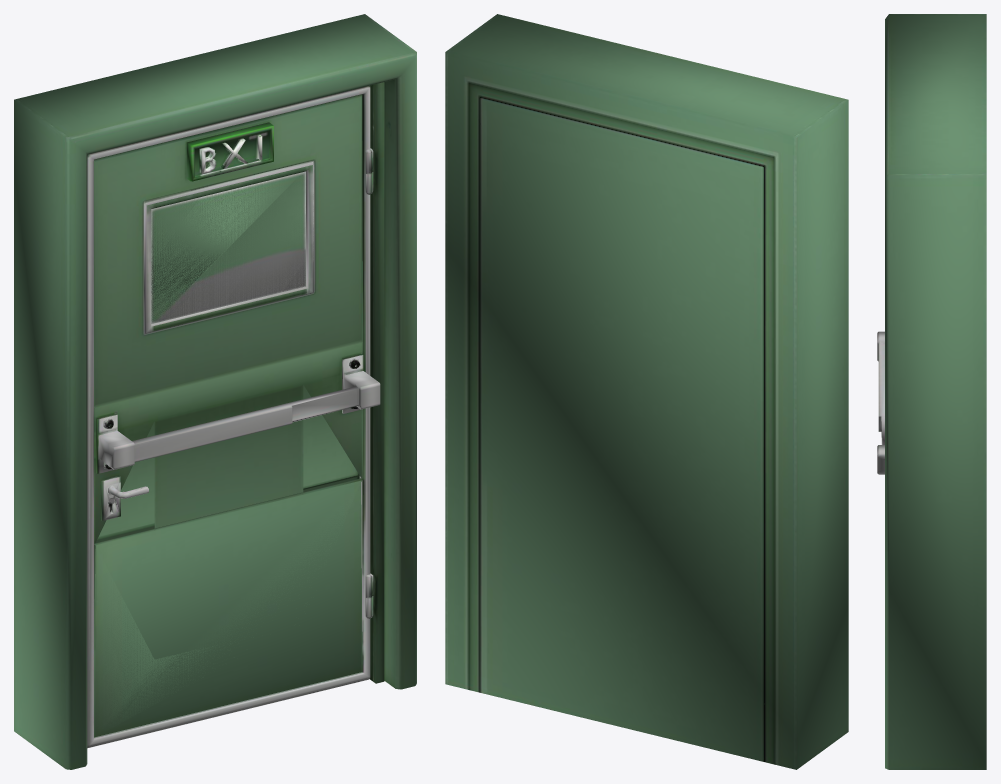
File: selected.glb
The picture shows the model from 3 angles, left to right: view 1: azimuth 30°, elevation 25°; view 2: azimuth 150°, elevation 25°; view 3: azimuth 270°, elevation 25°; orthographic projection. The views are drawn at different scales.
Parts seen in each view (by area): view 1: tripo_node_97cc451f-82bc-48cc-b6b0-ca32af283191; view 2: tripo_node_97cc451f-82bc-48cc-b6b0-ca32af283191; view 3: tripo_node_97cc451f-82bc-48cc-b6b0-ca32af283191.
Part boxes in pixels (x1=…): tripo_node_97cc451f-82bc-48cc-b6b0-ca32af283191: x1=14, y1=14, x2=416, y2=769; tripo_node_97cc451f-82bc-48cc-b6b0-ca32af283191: x1=445, y1=14, x2=848, y2=769; tripo_node_97cc451f-82bc-48cc-b6b0-ca32af283191: x1=877, y1=14, x2=986, y2=769.
Size of the model in its own units: 0.5801 by 0.998 by 0.166.
Materials: 1 (1 with a texture image).
